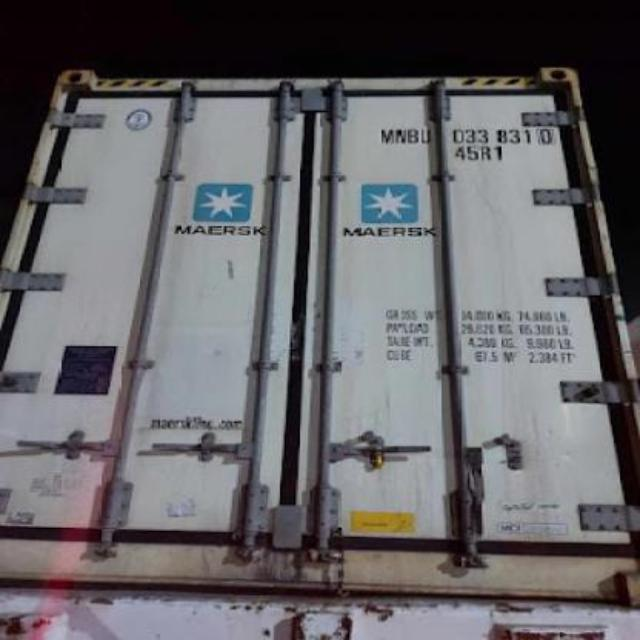0: (536, 128, 556, 146), (452, 128, 466, 146)
1: (523, 128, 533, 146)
3: (465, 126, 477, 144), (509, 128, 521, 146), (478, 128, 490, 144)
8: (495, 128, 509, 146)
B: (406, 128, 419, 144)
M: (379, 126, 395, 146)
N: (394, 127, 408, 147)
U: (420, 127, 432, 145)
